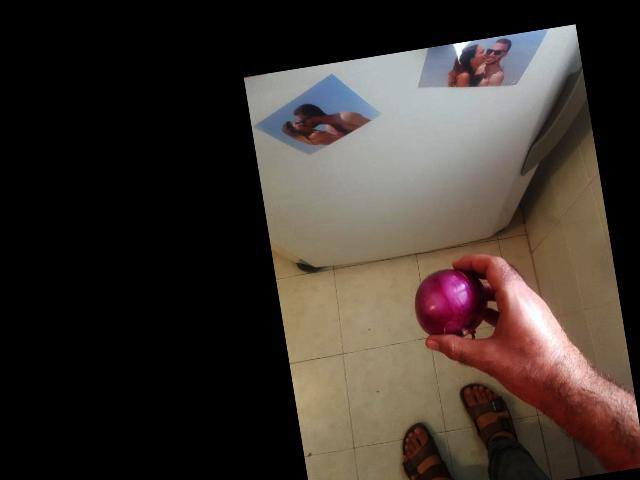onion: (408, 260, 497, 349)
